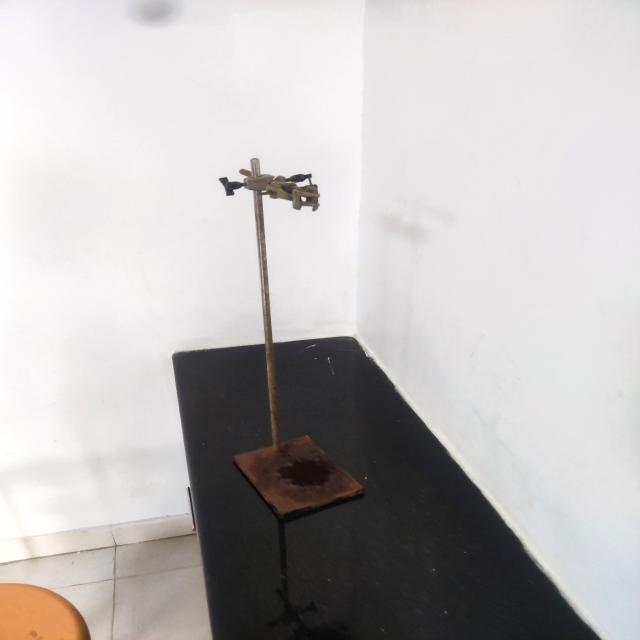Burette_Stands: (195, 132, 383, 523)
